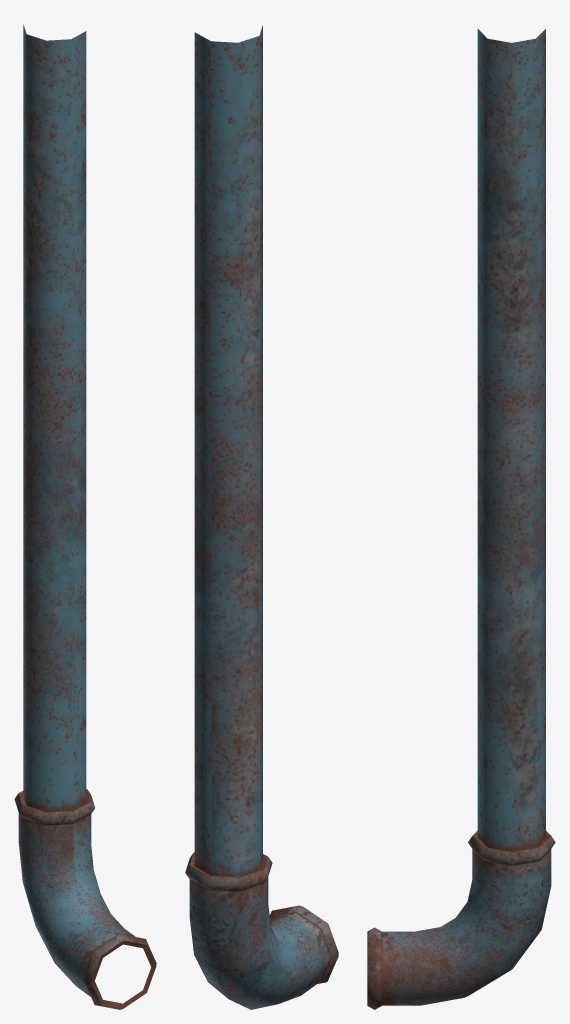
File: pipe_5.glb
3 views of the same model, side by side, from view 1: azimuth 30°, elevation 25°; view 2: azimuth 150°, elevation 25°; view 3: azimuth 270°, elevation 25° (orthographic). The views are drawn at different scales.
Parts seen in each view (by area): view 1: Material2.001; view 2: Material2.001; view 3: Material2.001.
Boxes of the visible parts, left/top/right/bottom form: Material2.001: left=14, top=24, right=156, bottom=1009; Material2.001: left=185, top=25, right=338, bottom=1009; Material2.001: left=367, top=29, right=555, bottom=1009.
Bounding box in the file's own units: 2.07 × 25.49 × 4.44.
1 material, 1 textured.
